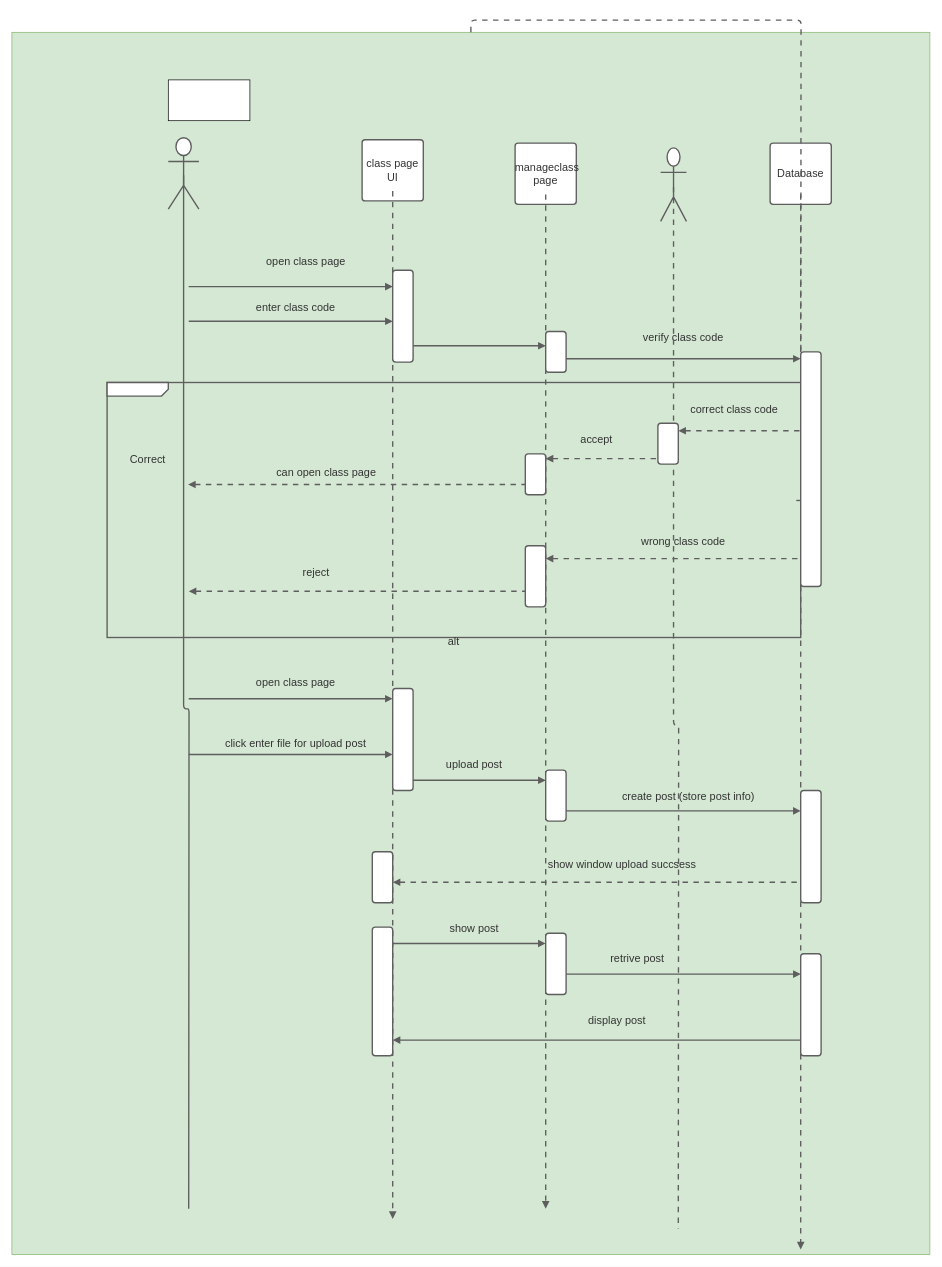
Some shapes in this 942 by 1267 pixel diagram are drawn without their labels. Each missing label, with the centre of its shape:
class admin: the point at 673,184
Class page: the point at 209,100
inCorrect: the point at 147,572
student: the point at 183,173
